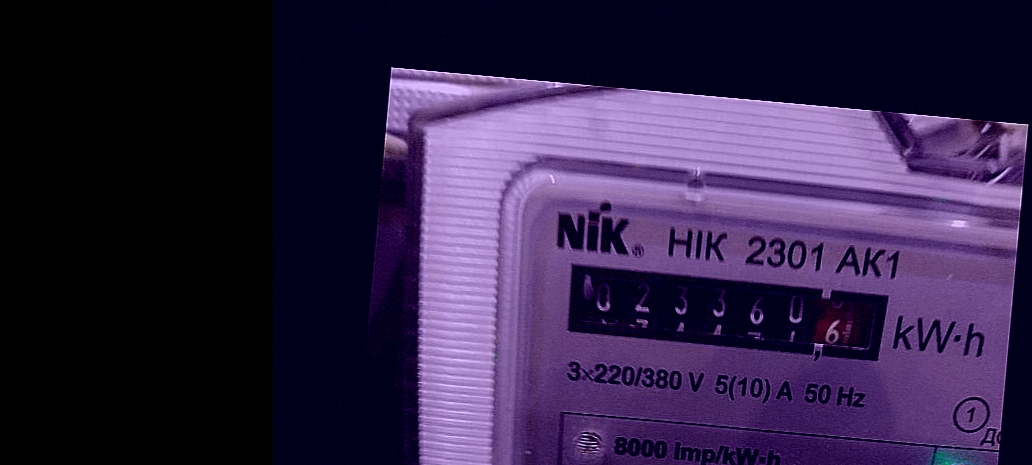0: (591, 275, 616, 312), (784, 289, 809, 325)
2: (631, 277, 655, 314)
3: (670, 280, 693, 317), (709, 283, 730, 318)
6: (746, 289, 769, 325), (822, 311, 843, 346)
screen: (551, 249, 909, 379)
